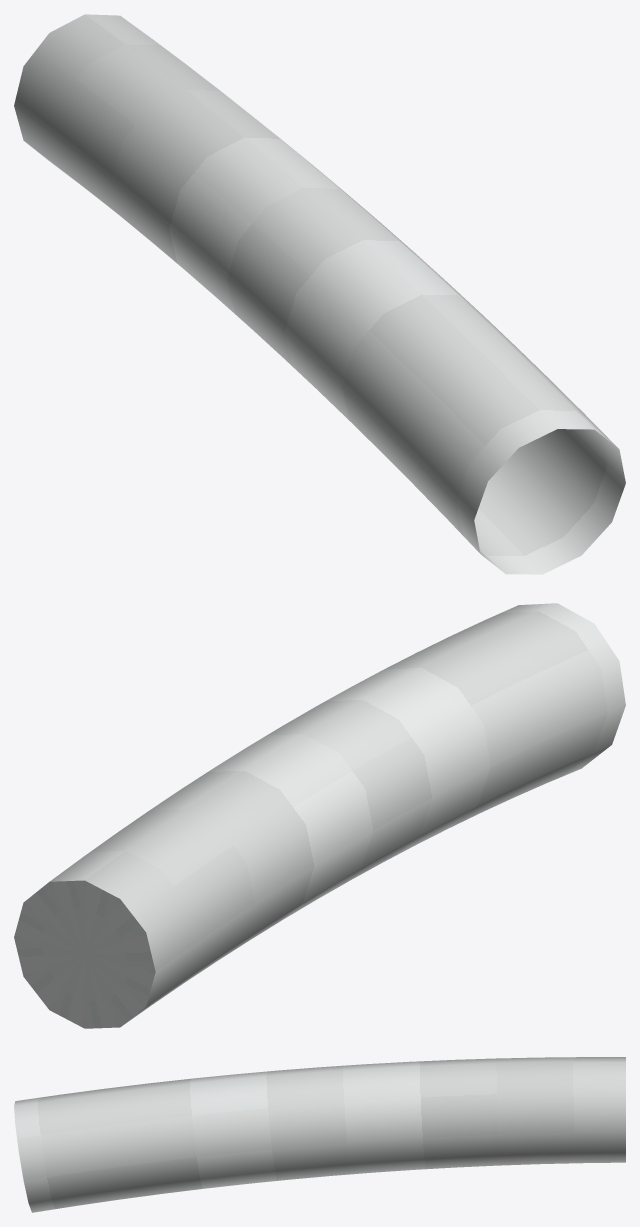
Rendered from luminairearm_caltrans10ftdouble_c5.obj.
3 views of the same model, one above another, from view 1: azimuth 30°, elevation 25°; view 2: azimuth 150°, elevation 25°; view 3: azimuth 270°, elevation 25° (orthographic). The views are drawn at different scales.
Parts seen in each view (by area): view 1: luminairearm_caltrans10ftdouble_c5; view 2: luminairearm_caltrans10ftdouble_c5; view 3: luminairearm_caltrans10ftdouble_c5.
Part boxes in pixels (x1=…): luminairearm_caltrans10ftdouble_c5: x1=14, y1=14, x2=625, y2=574; luminairearm_caltrans10ftdouble_c5: x1=14, y1=603, x2=625, y2=1028; luminairearm_caltrans10ftdouble_c5: x1=14, y1=1057, x2=625, y2=1212.
Size of the model in its own units: 0.1874 by 0.2658 by 1.01.
